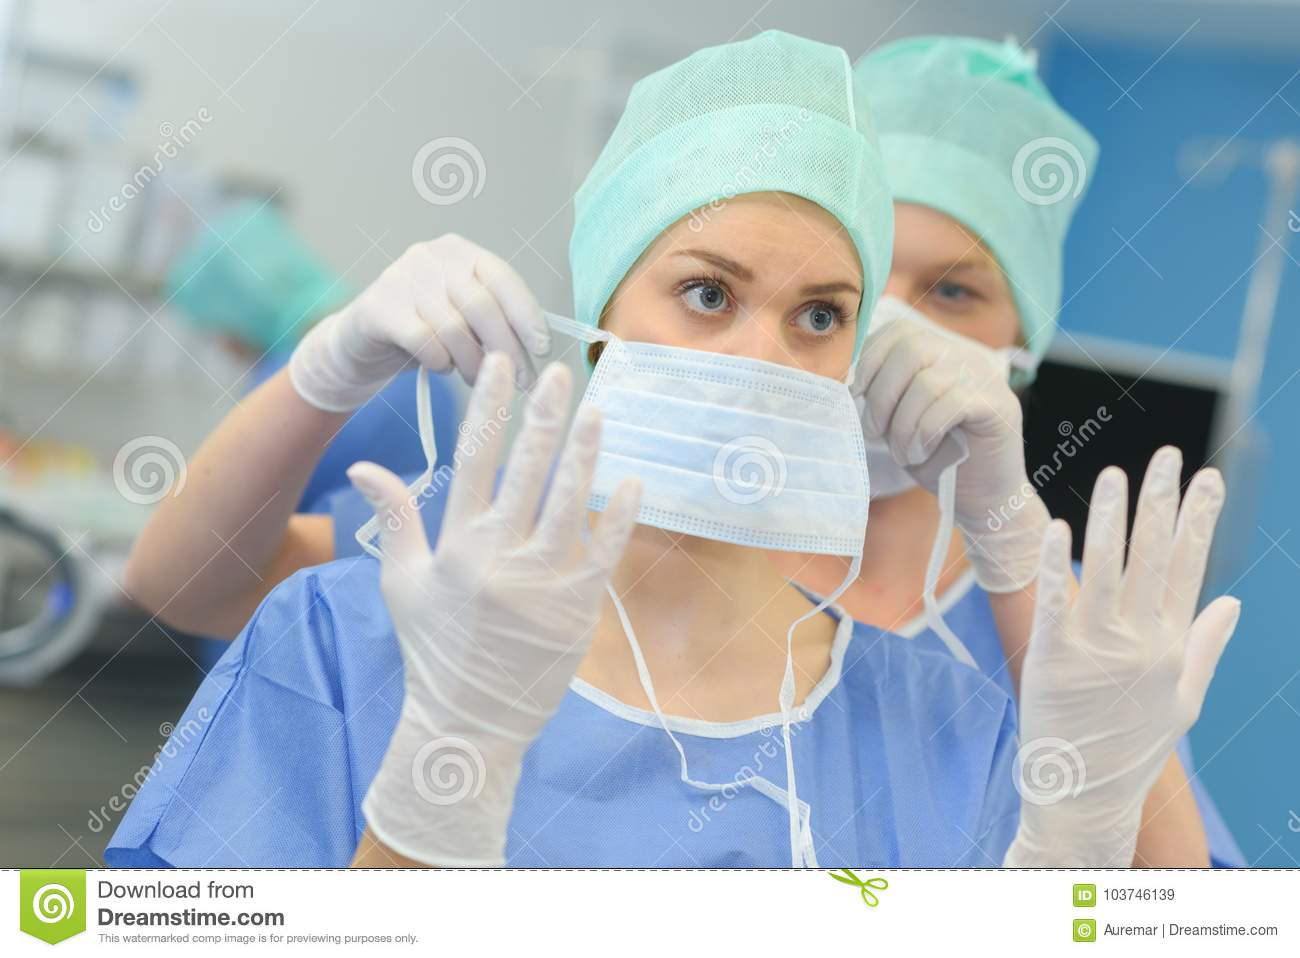mask: (556, 329, 888, 573)
